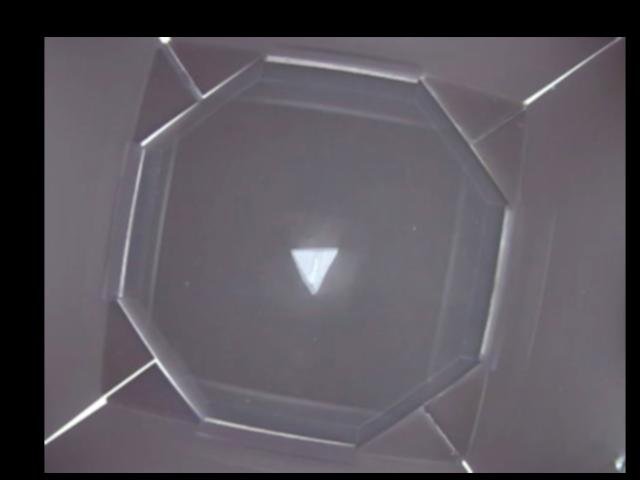China: (289, 245, 339, 291)
